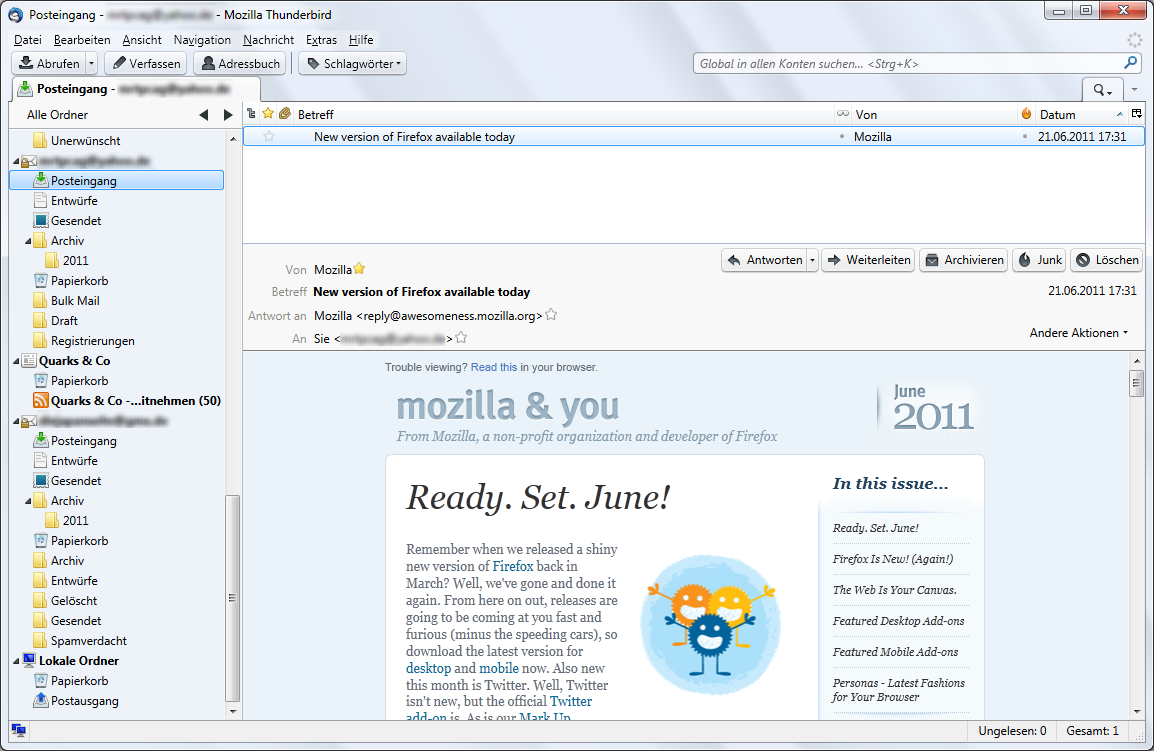button: (13, 77, 260, 102), (7, 170, 224, 190), (31, 391, 222, 410), (225, 495, 240, 702), (297, 49, 406, 74), (19, 153, 155, 170), (20, 414, 171, 429), (822, 248, 915, 272), (193, 50, 285, 74), (919, 248, 1009, 272), (720, 247, 806, 272), (31, 331, 135, 350), (104, 50, 186, 74), (10, 50, 85, 75), (21, 651, 119, 669), (1070, 248, 1143, 272), (1029, 324, 1129, 341), (31, 131, 122, 149), (20, 351, 111, 369), (32, 632, 128, 649), (32, 431, 118, 449), (32, 270, 110, 289), (32, 692, 119, 709), (32, 371, 109, 389), (32, 672, 108, 690), (1012, 248, 1066, 272), (33, 531, 109, 548), (31, 211, 102, 229), (31, 291, 101, 309), (31, 191, 99, 209), (31, 571, 98, 589), (32, 472, 102, 489), (32, 612, 101, 629), (32, 451, 97, 469), (31, 592, 97, 609), (31, 231, 85, 250), (31, 551, 85, 569), (1082, 78, 1124, 101), (51, 31, 111, 47), (172, 31, 232, 47), (32, 491, 85, 509), (239, 31, 296, 47), (1099, 1, 1147, 20), (31, 311, 79, 329), (43, 251, 89, 269), (44, 511, 88, 528), (119, 31, 164, 47), (405, 661, 452, 676), (493, 559, 534, 574), (470, 361, 517, 374), (478, 661, 520, 675), (550, 695, 593, 708), (1043, 1, 1072, 20), (10, 31, 43, 47), (304, 31, 337, 47), (1072, 1, 1099, 20), (519, 711, 572, 720), (346, 31, 374, 47), (404, 712, 448, 721), (1129, 370, 1144, 396), (225, 702, 242, 720), (224, 129, 242, 146), (85, 50, 97, 75), (806, 247, 818, 272), (1129, 351, 1144, 370), (7, 6, 23, 23), (1122, 54, 1138, 70), (1129, 704, 1145, 720), (196, 107, 209, 122), (222, 107, 235, 122), (1133, 728, 1145, 743), (353, 262, 366, 275), (545, 308, 558, 321), (455, 331, 468, 344), (1129, 85, 1140, 94), (10, 357, 20, 366), (12, 415, 19, 427), (24, 497, 32, 506), (24, 236, 31, 246), (12, 657, 20, 665), (10, 158, 19, 165)
common: (404, 541, 621, 720), (831, 676, 967, 705), (384, 361, 599, 374), (831, 582, 958, 597), (831, 614, 965, 628), (831, 645, 959, 659), (831, 553, 954, 566), (831, 522, 920, 536), (975, 723, 1048, 739), (1049, 284, 1138, 297), (26, 108, 89, 123), (1063, 723, 1121, 739)
container: (244, 351, 1146, 720), (244, 351, 1129, 720), (384, 354, 985, 720), (9, 128, 242, 720), (243, 101, 1146, 244), (384, 454, 820, 720), (242, 243, 1145, 350), (1, 28, 1154, 75), (819, 455, 984, 720), (1, 720, 1146, 751), (6, 75, 1146, 101), (1, 1, 1154, 26), (224, 129, 242, 720), (1, 27, 376, 49), (7, 102, 243, 129), (1129, 351, 1145, 720), (12, 413, 172, 430), (8, 152, 156, 170), (24, 231, 92, 270), (24, 490, 91, 528), (720, 248, 818, 272), (10, 51, 97, 75), (12, 651, 120, 669), (10, 351, 113, 369), (24, 231, 86, 250), (25, 491, 86, 509)
header: (404, 481, 671, 517), (395, 389, 620, 428), (395, 428, 778, 445), (27, 7, 332, 23), (893, 382, 976, 433), (831, 475, 959, 494)
image: (640, 555, 781, 696), (9, 721, 29, 742), (1126, 31, 1143, 48)
table: (243, 101, 1145, 147), (245, 259, 566, 348)
table-cell: (293, 101, 835, 126), (294, 125, 835, 146), (309, 260, 565, 280), (309, 282, 565, 302), (309, 305, 565, 325), (309, 328, 565, 348), (852, 102, 1018, 126), (852, 126, 1018, 146), (1035, 101, 1128, 126), (1035, 126, 1128, 146), (245, 260, 309, 280), (245, 282, 309, 302), (245, 305, 309, 325), (245, 328, 309, 348), (1018, 101, 1035, 126), (1128, 101, 1145, 126), (242, 101, 259, 125), (259, 101, 276, 125), (276, 101, 293, 125), (835, 102, 852, 126), (242, 125, 260, 146), (259, 125, 277, 146), (276, 125, 294, 146), (835, 126, 852, 146), (1018, 126, 1035, 146), (1128, 126, 1145, 146)
table-row: (243, 101, 1145, 126), (243, 126, 1145, 147), (245, 259, 565, 279), (245, 281, 565, 301), (245, 304, 565, 324), (245, 327, 565, 347)
text-input: (691, 51, 1142, 74)
